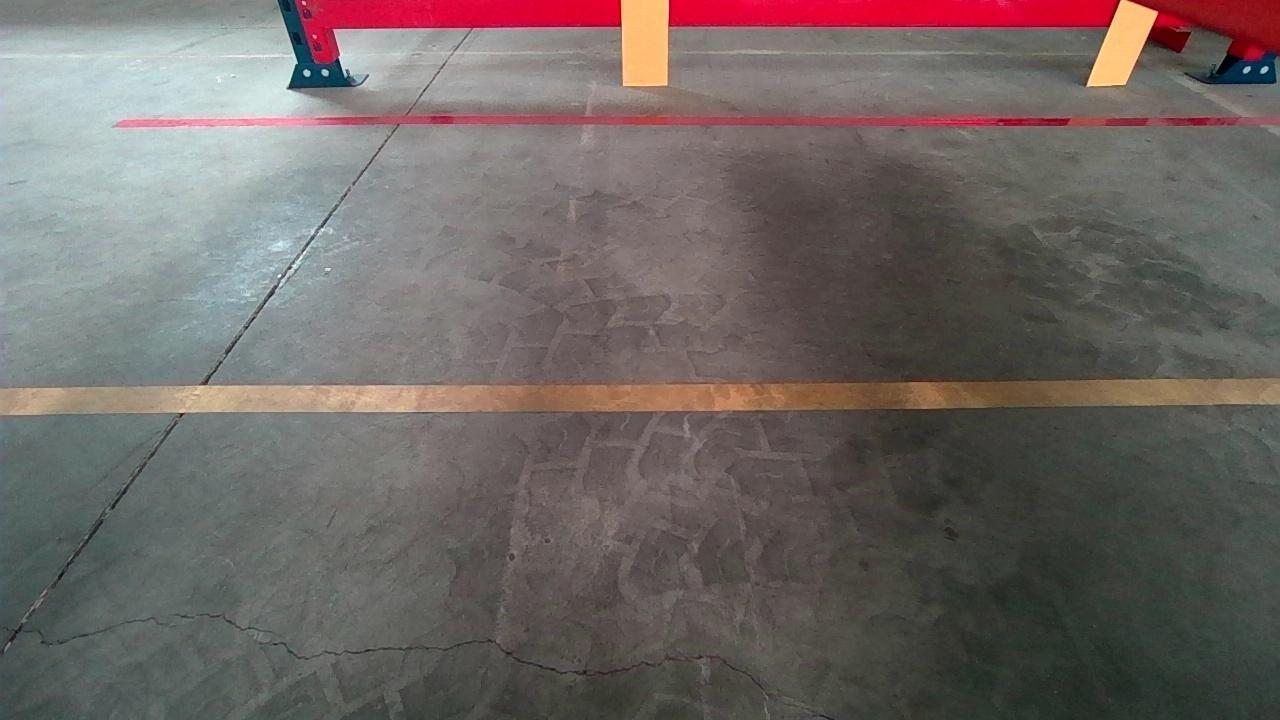red_line: (112, 114, 1280, 128)
